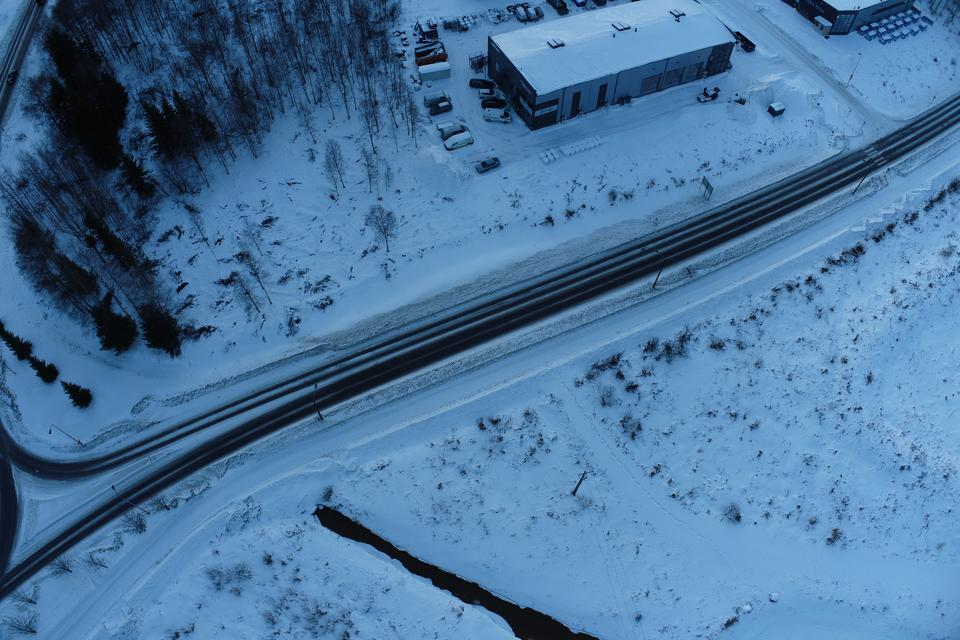intersection: (827, 92, 928, 201)
roundabout: (0, 370, 104, 627)
